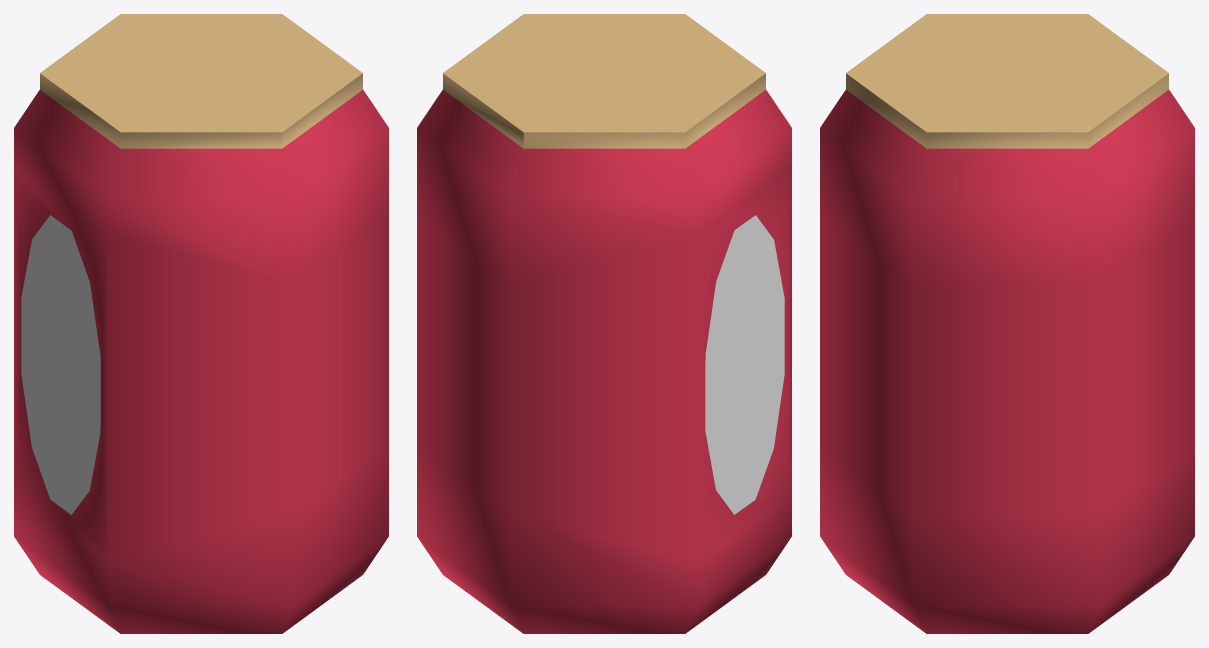
Rendered from beer.fbx.
3 renders of one model, left to right at view 1: azimuth 30°, elevation 25°; view 2: azimuth 150°, elevation 25°; view 3: azimuth 270°, elevation 25°, orthographic.
Parts seen in each view (by area): view 1: BeerCan; view 2: BeerCan; view 3: BeerCan.
Boxes of the visible parts, x1=… form: BeerCan: x1=14, y1=14, x2=388, y2=633; BeerCan: x1=417, y1=14, x2=791, y2=633; BeerCan: x1=820, y1=14, x2=1194, y2=633.
Size of the model in its own units: 12.12 by 20.67 by 14.
